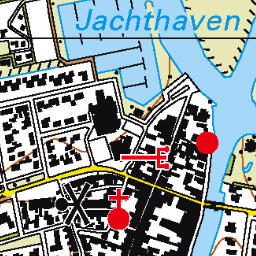church: (105, 186, 134, 232)
